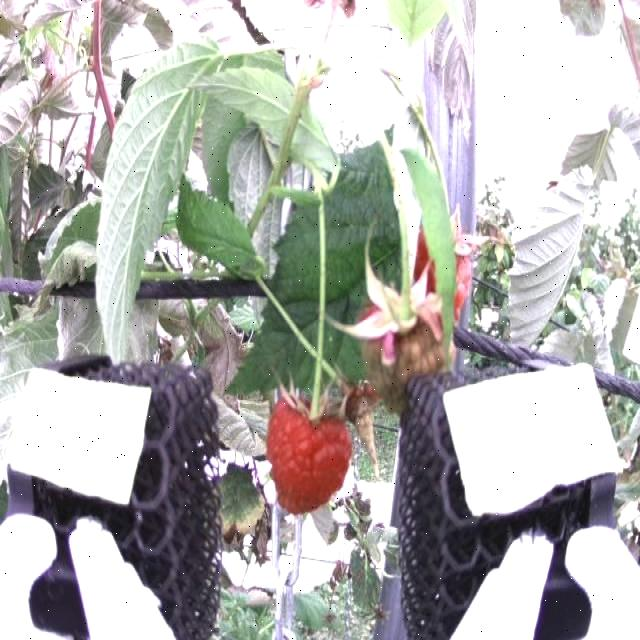Riped berries: (263, 387, 354, 516), (410, 224, 476, 310)
